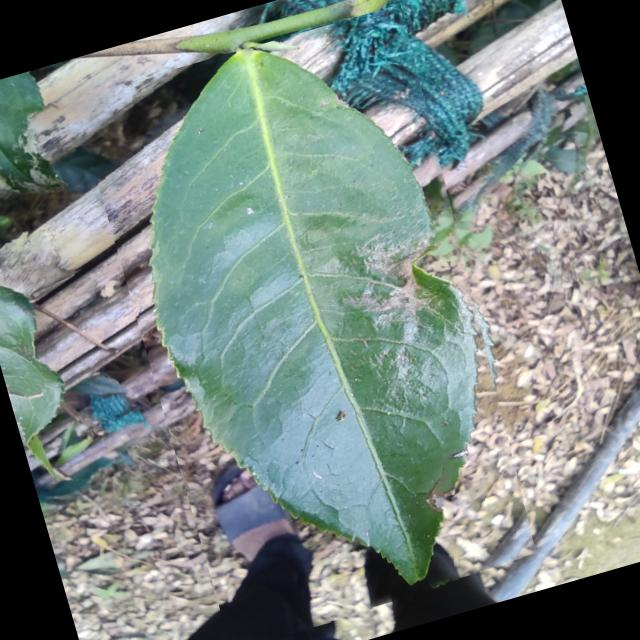Category D 7+ days, Not for Tea: (73, 3, 561, 640)
